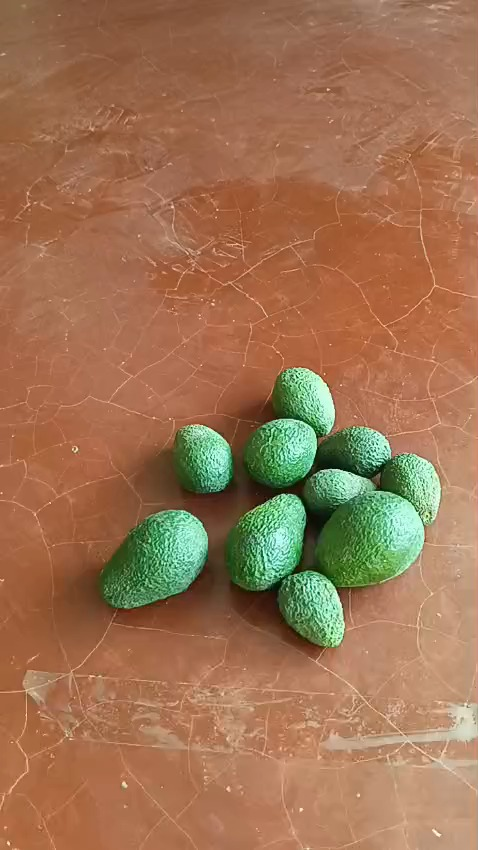Primera: (98, 507, 210, 608), (314, 487, 425, 585), (225, 490, 309, 589)
Segunda: (243, 418, 317, 487)
Tercera: (275, 567, 346, 646), (377, 451, 442, 525), (270, 367, 335, 438), (172, 424, 234, 493), (314, 426, 392, 478), (301, 468, 375, 521)
